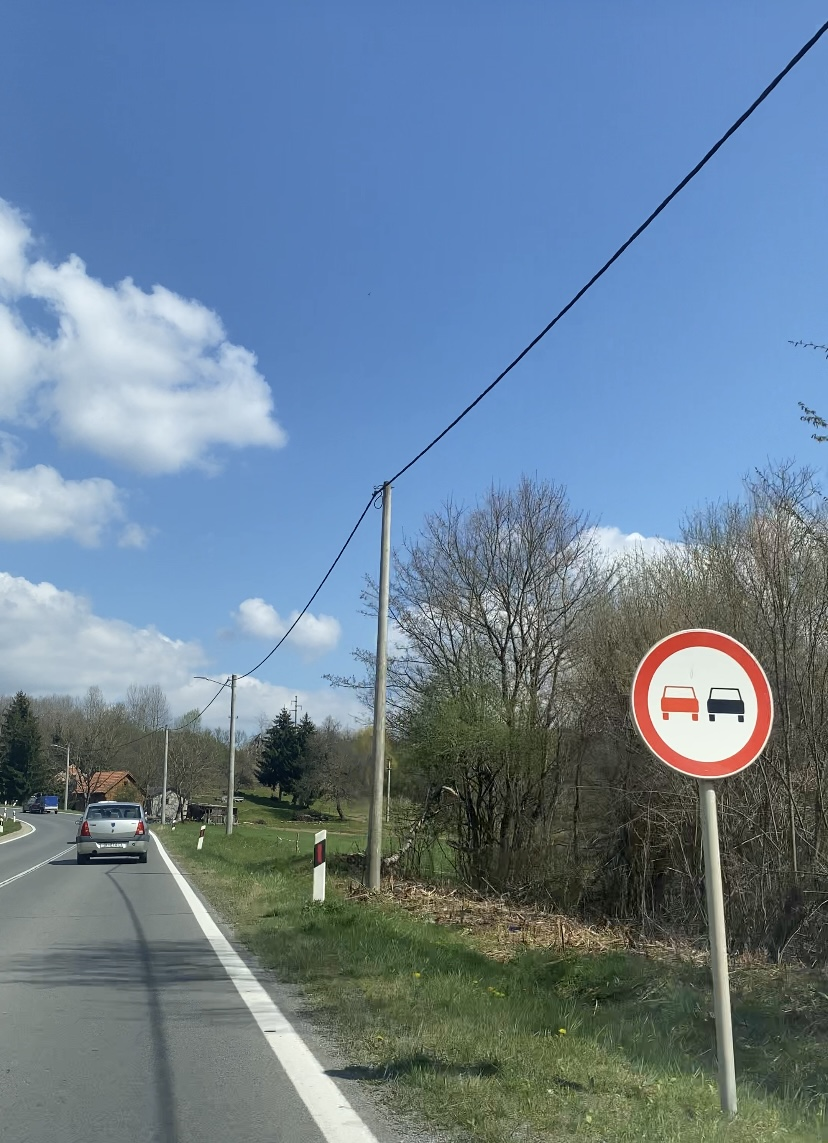Zabrana pretjecanja: (631, 628, 774, 780)
